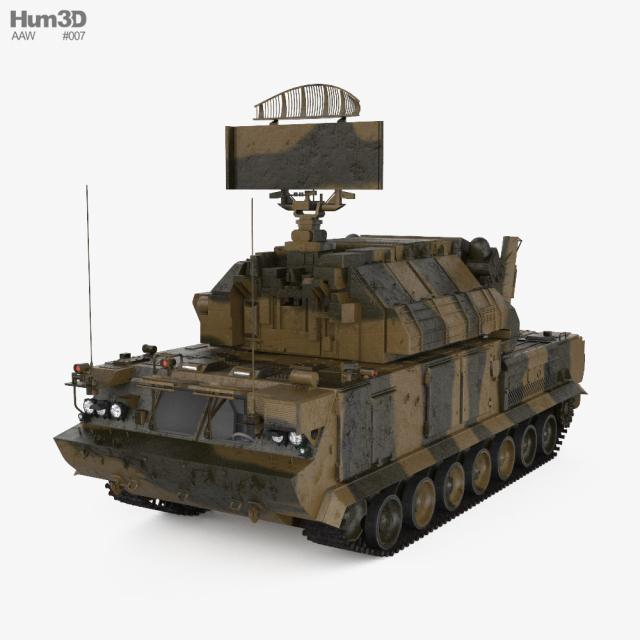MIL_EW_RDR: (57, 82, 586, 560)
